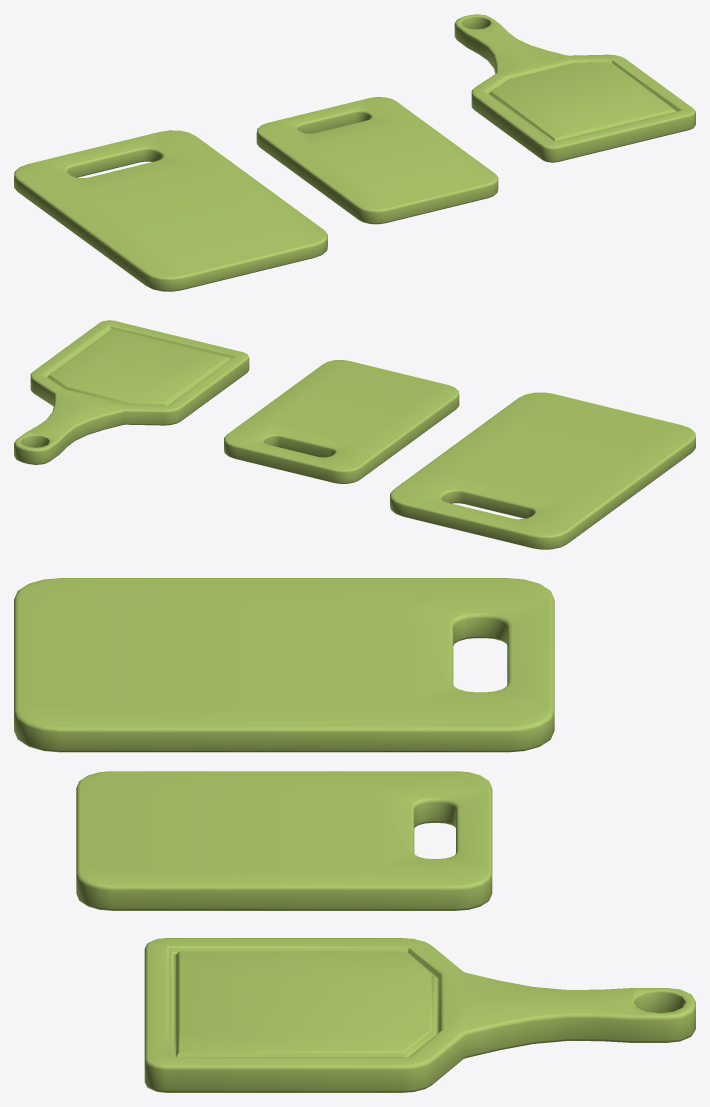
Rendered from Cutting_boards.fbx.
The picture shows the model from 3 angles, top to bottom: view 1: azimuth 30°, elevation 25°; view 2: azimuth 150°, elevation 25°; view 3: azimuth 270°, elevation 25°; orthographic projection. The views are drawn at different scales.
Visible parts, largest first — view 1: Cutting_board_2, Cutting_board_3, Cutting_board_1; view 2: Cutting_board_2, Cutting_board_3, Cutting_board_1; view 3: Cutting_board_2, Cutting_board_3, Cutting_board_1.
Part boxes in pixels (x1,y1,x2,y2): Cutting_board_2: (14, 130, 327, 291); Cutting_board_3: (454, 14, 695, 162); Cutting_board_1: (256, 97, 498, 224); Cutting_board_2: (390, 392, 695, 549); Cutting_board_3: (14, 320, 249, 464); Cutting_board_1: (224, 360, 459, 483); Cutting_board_2: (14, 578, 554, 752); Cutting_board_3: (144, 938, 695, 1092); Cutting_board_1: (76, 771, 492, 910).
Size of the model in its own units: 84.07 by 2.2 by 49.2.
